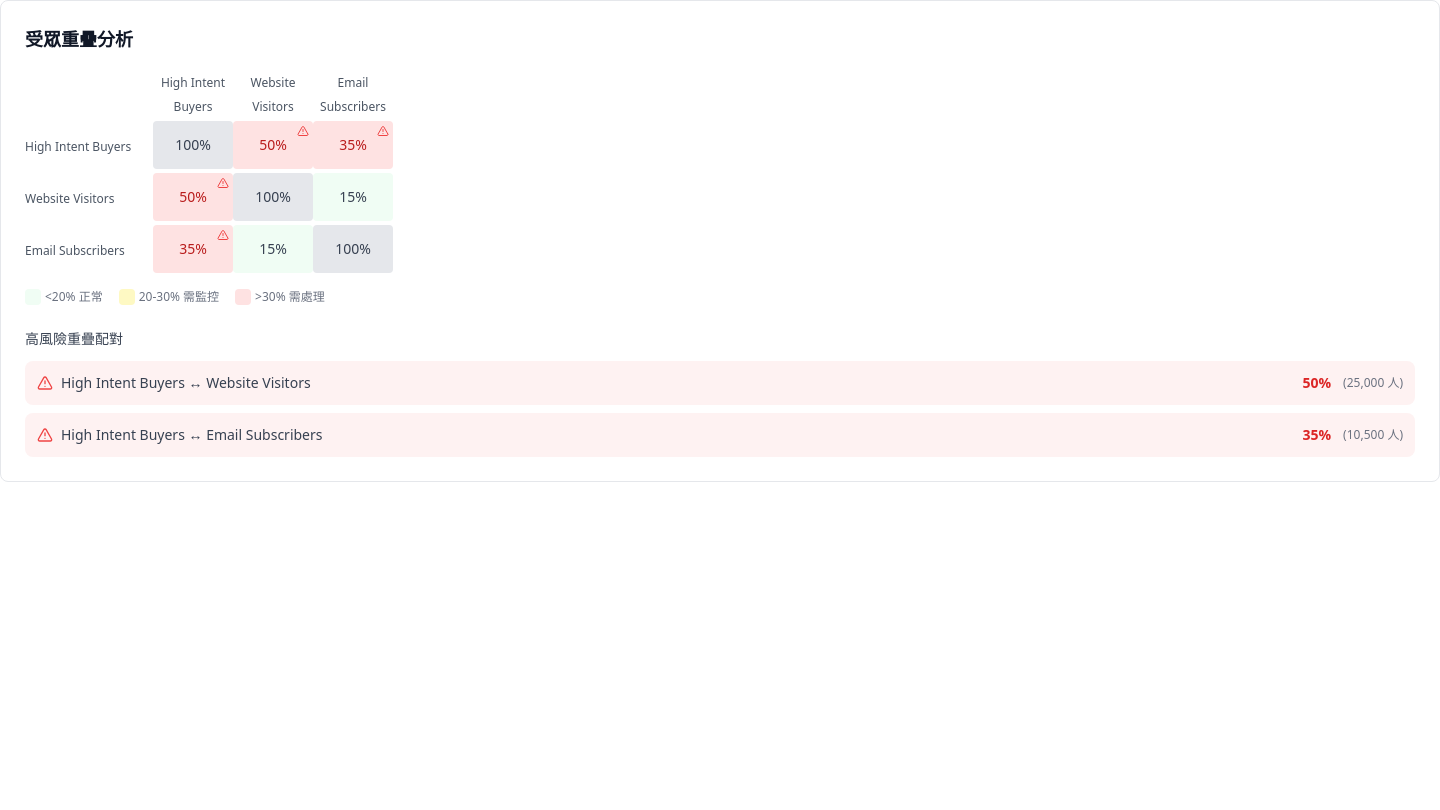
Test case: OverlapChart 詳細資訊 (AC3) › should show tooltip on cell hover
The image size is (1440, 810).
Hover over the element with test id "overlap-cell-a1-a2".
mouse_move(273, 145)  # box [233,121,313,169]
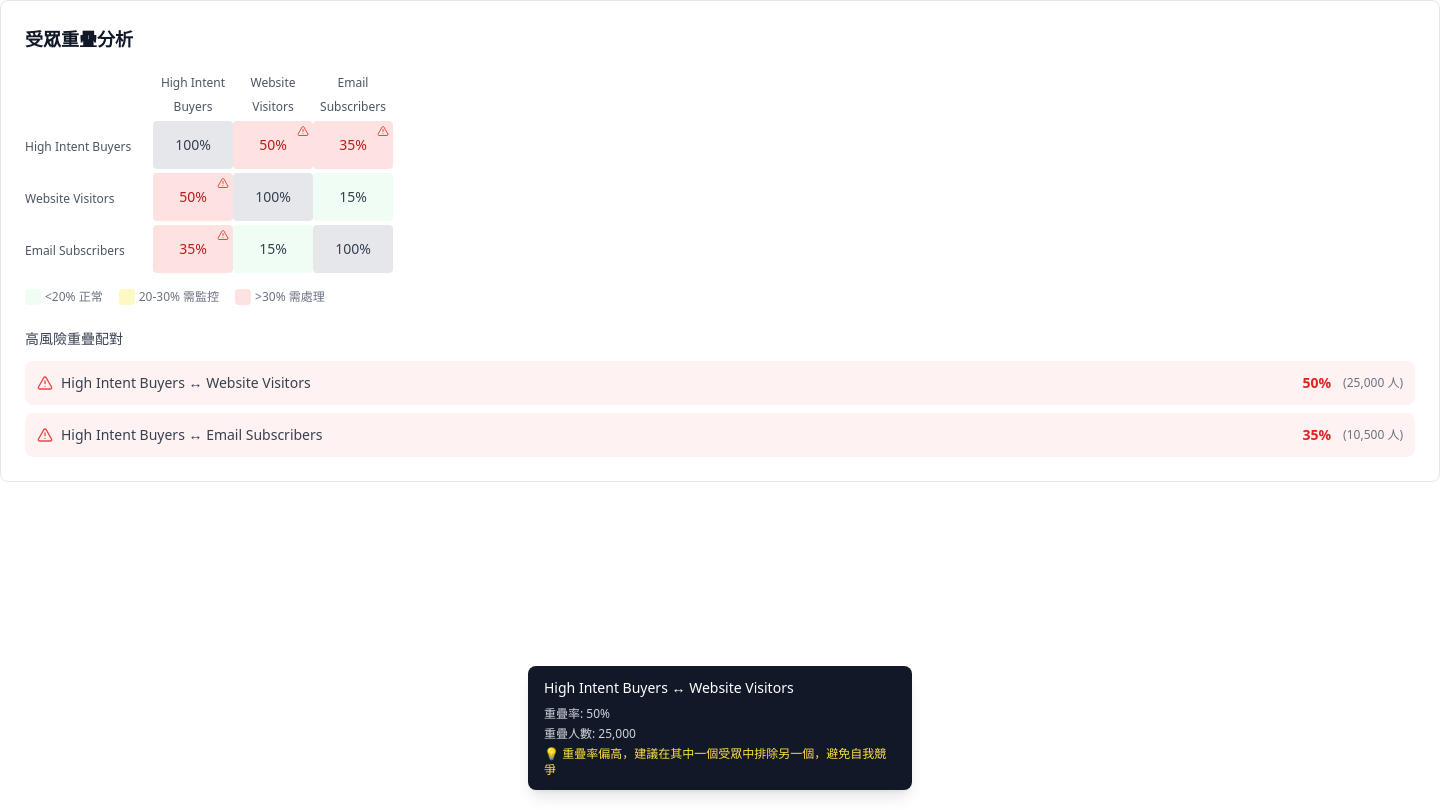
Now the element with test id "overlap-tooltip" is shown, box [528,666,912,790]
